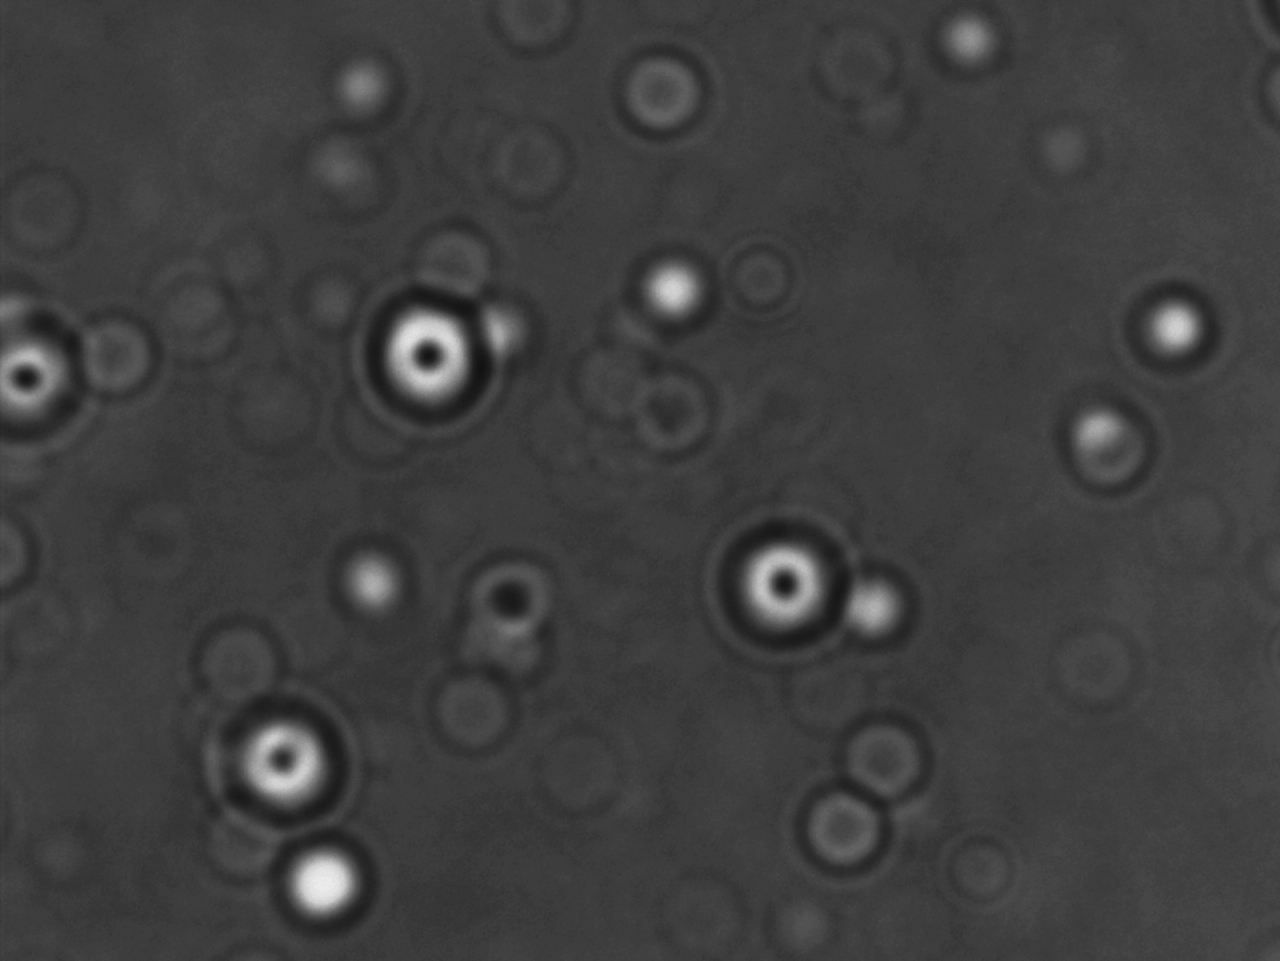depth:24: (216, 699, 367, 833), (713, 512, 852, 655), (352, 289, 499, 423)
